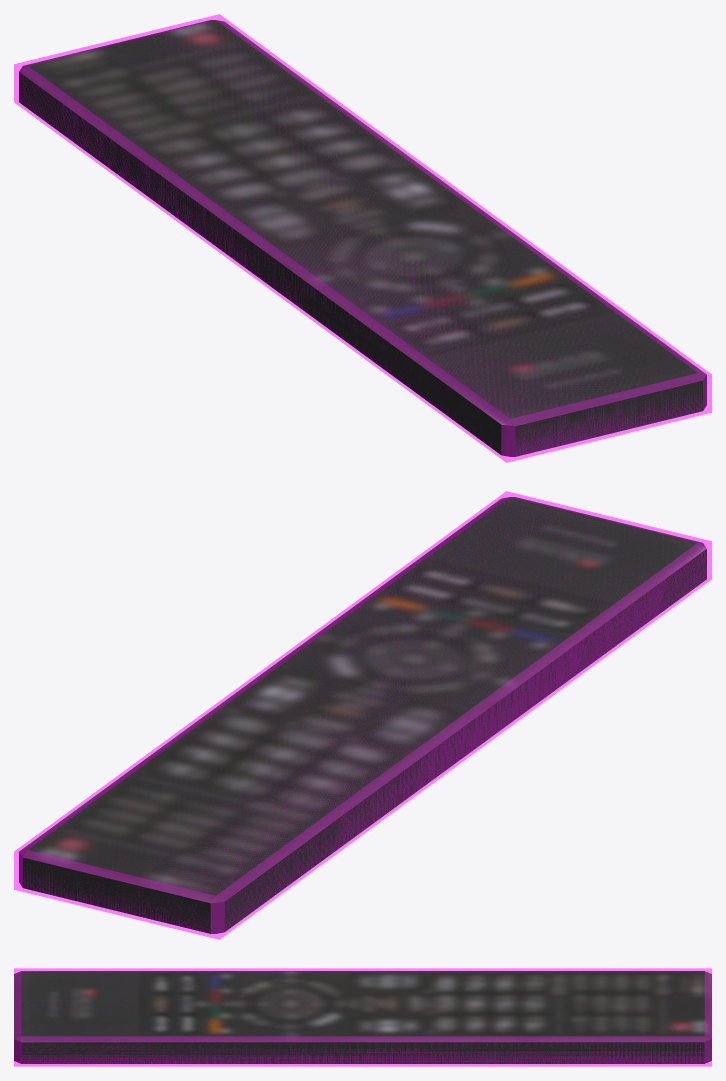
Rendered from TV_remocon.fbx.
3 renders of one model, top to bottom at view 1: azimuth 30°, elevation 25°; view 2: azimuth 150°, elevation 25°; view 3: azimuth 270°, elevation 25°, orthographic. The views are drawn at different scales.
Visible parts, largest first — view 1: TV_remocon, boundingbox; view 2: TV_remocon, boundingbox; view 3: TV_remocon, boundingbox.
Boxes of the visible parts, x1=… form: TV_remocon: x1=19, y1=20, x2=706, y2=456; boundingbox: x1=14, y1=14, x2=711, y2=462; TV_remocon: x1=19, y1=497, x2=706, y2=933; boundingbox: x1=14, y1=491, x2=711, y2=939; TV_remocon: x1=14, y1=971, x2=711, y2=1063; boundingbox: x1=14, y1=968, x2=711, y2=1066.
Bounding box in the file's own units: 4.56 × 0.8078 × 18.91.
Materials: 2 (1 with a texture image).
